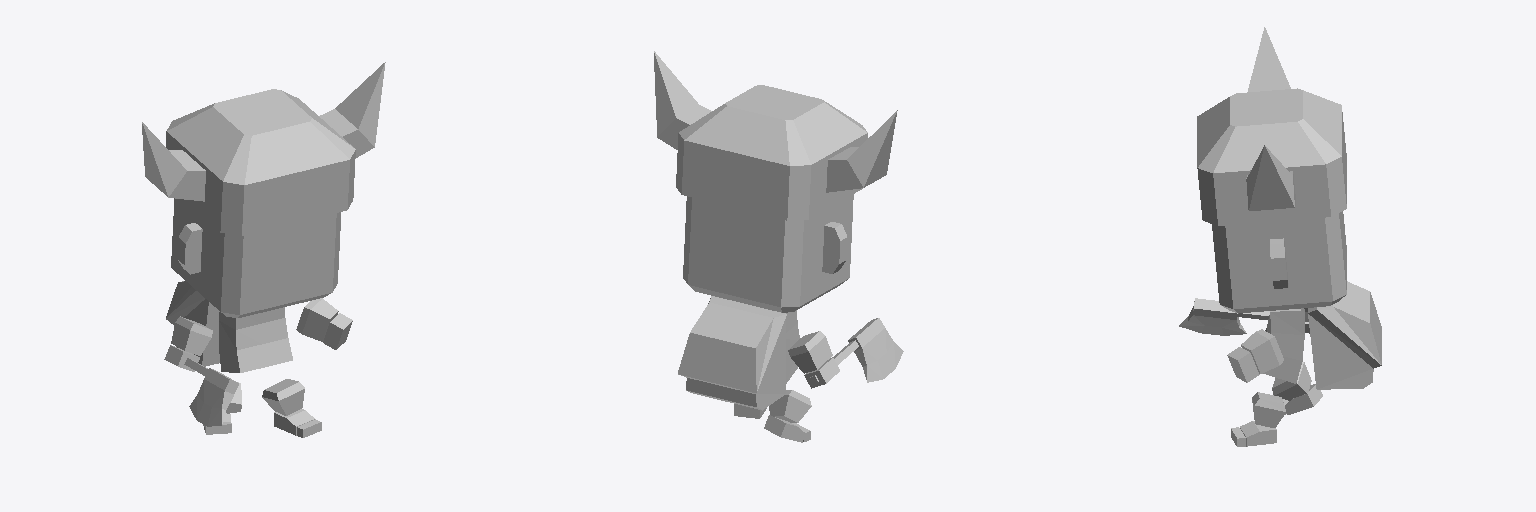
Rendered from mini_knight_000029.obj.
The picture shows the model from 3 angles: view 1: azimuth 30°, elevation 25°; view 2: azimuth 150°, elevation 25°; view 3: azimuth 270°, elevation 25°; orthographic projection.
Visible parts, largest first — view 1: cap_Object01_Material__3, Mesh_objheadusOBJexport_Material, back_Object03_Material__3, axe_Object02_Material__3; view 2: cap_Object01_Material__3, Mesh_objheadusOBJexport_Material, back_Object03_Material__3, axe_Object02_Material__3; view 3: cap_Object01_Material__3, Mesh_objheadusOBJexport_Material, back_Object03_Material__3, axe_Object02_Material__3.
Boxes of the visible parts, <box> form: cap_Object01_Material__3: <box>142,62,385,235</box>; Mesh_objheadusOBJexport_Material: <box>164,198,352,437</box>; back_Object03_Material__3: <box>166,281,219,366</box>; axe_Object02_Material__3: <box>184,358,238,426</box>; cap_Object01_Material__3: <box>654,51,897,220</box>; Mesh_objheadusOBJexport_Material: <box>683,194,853,442</box>; back_Object03_Material__3: <box>678,296,786,410</box>; axe_Object02_Material__3: <box>810,318,903,383</box>; cap_Object01_Material__3: <box>1197,27,1346,225</box>; Mesh_objheadusOBJexport_Material: <box>1212,211,1346,446</box>; back_Object03_Material__3: <box>1308,281,1381,389</box>; axe_Object02_Material__3: <box>1179,298,1269,335</box>.
Size of the model in its own units: 1.94 by 2.59 by 1.4.